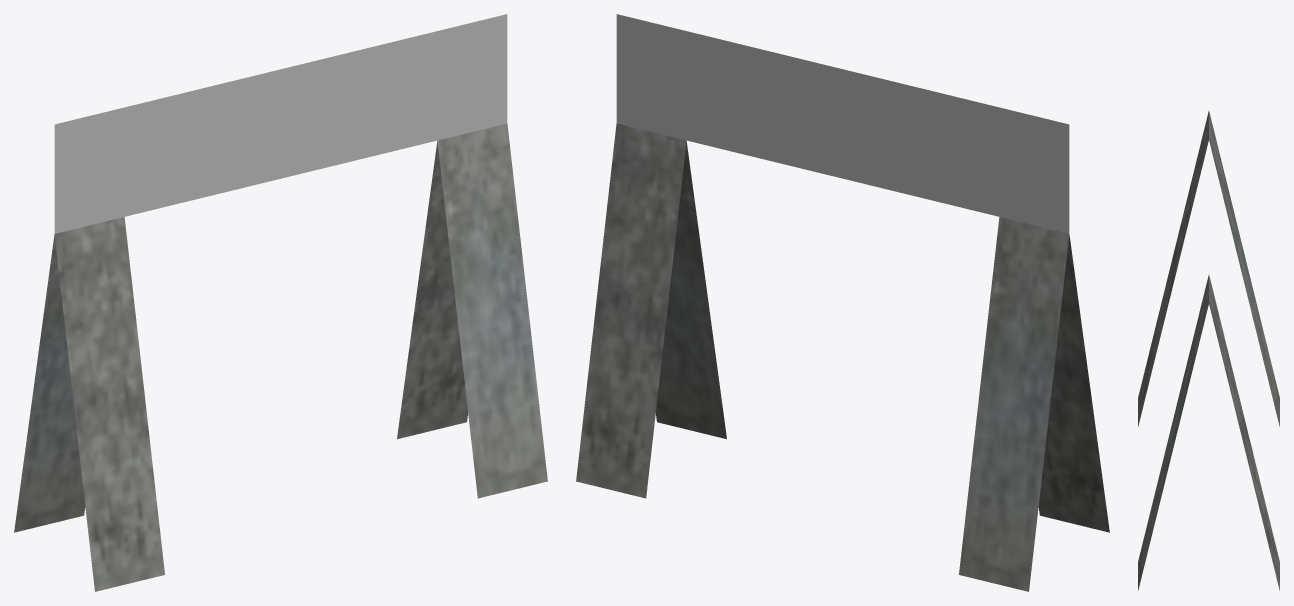
File: detailBarrier_typeA.dae
3 renders of one model, left to right at view 1: azimuth 30°, elevation 25°; view 2: azimuth 150°, elevation 25°; view 3: azimuth 270°, elevation 25°, orthographic. The views are drawn at different scales.
Parts seen in each view (by area): view 1: detailBarrier_typeA; view 2: detailBarrier_typeA; view 3: detailBarrier_typeA.
Boxes of the visible parts, x1,y1,x2,y2 form: detailBarrier_typeA: (14,14,547,591); detailBarrier_typeA: (576,14,1109,591); detailBarrier_typeA: (1138,111,1279,590).
Bounding box in the file's own units: 0.433 × 0.4 × 0.134.
